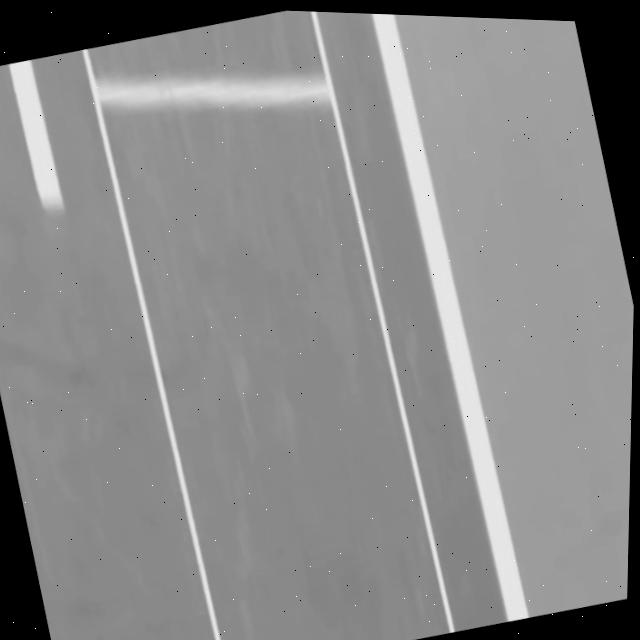center: (9, 59, 64, 211)
left: (372, 14, 529, 621)
